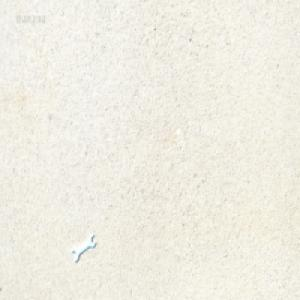Wrench: (73, 235, 97, 263)
